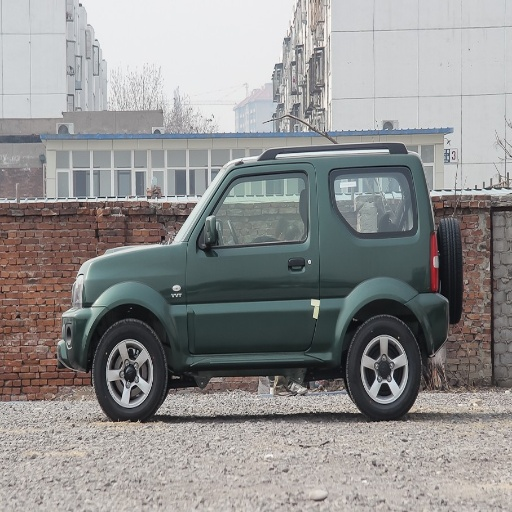trunk: (308, 262, 373, 349)
